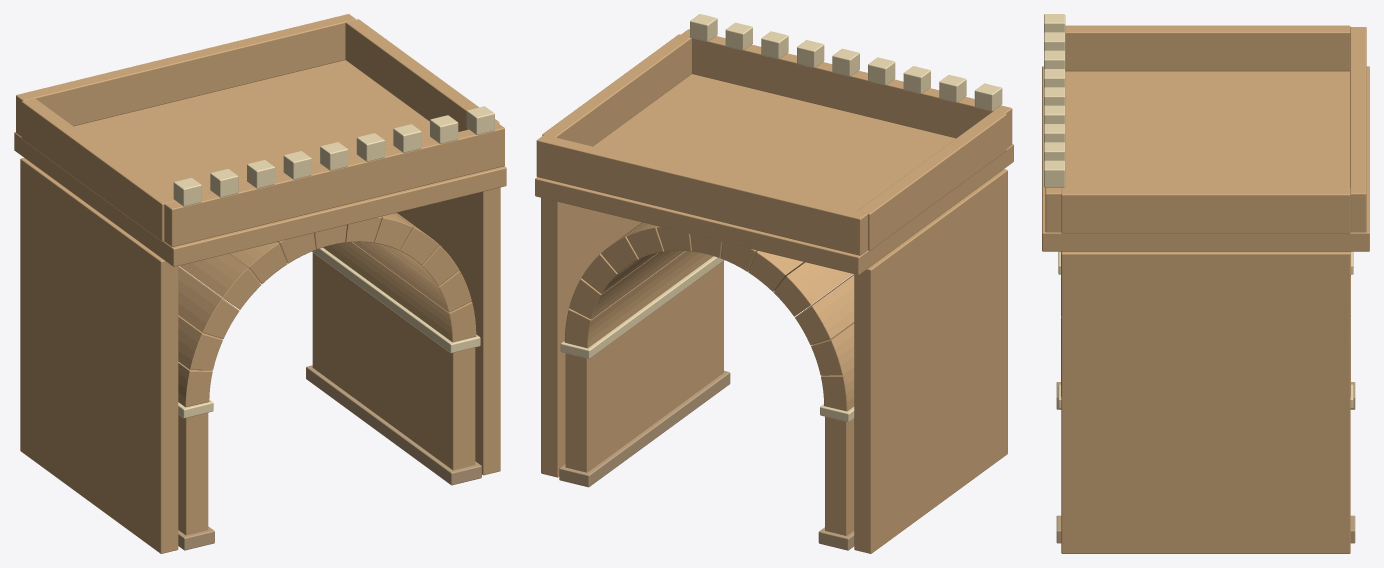
File: desert-caravanserai-and-bazaar-vaulted-gatehouse-15f7d118__30442.glb
3 renders of one model, left to right at view 1: azimuth 30°, elevation 25°; view 2: azimuth 150°, elevation 25°; view 3: azimuth 270°, elevation 25°, orthographic. The views are drawn at different scales.
Parts seen in each view (by area): view 1: vaulted-gatehouse; view 2: vaulted-gatehouse; view 3: vaulted-gatehouse.
Part boxes in pixels (x1,y1,x2,y2): vaulted-gatehouse: (14, 14, 506, 553); vaulted-gatehouse: (535, 14, 1013, 553); vaulted-gatehouse: (1042, 14, 1369, 553).
Bounding box in the file's own units: 4.18 × 4.32 × 3.4.
